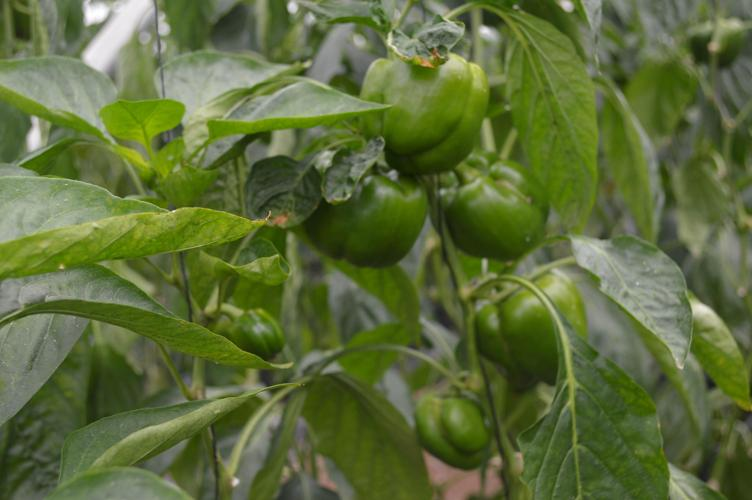BellPepper: (353, 48, 478, 173), (293, 170, 410, 287), (461, 286, 578, 403), (418, 384, 527, 493), (456, 170, 553, 267), (204, 303, 281, 380)
